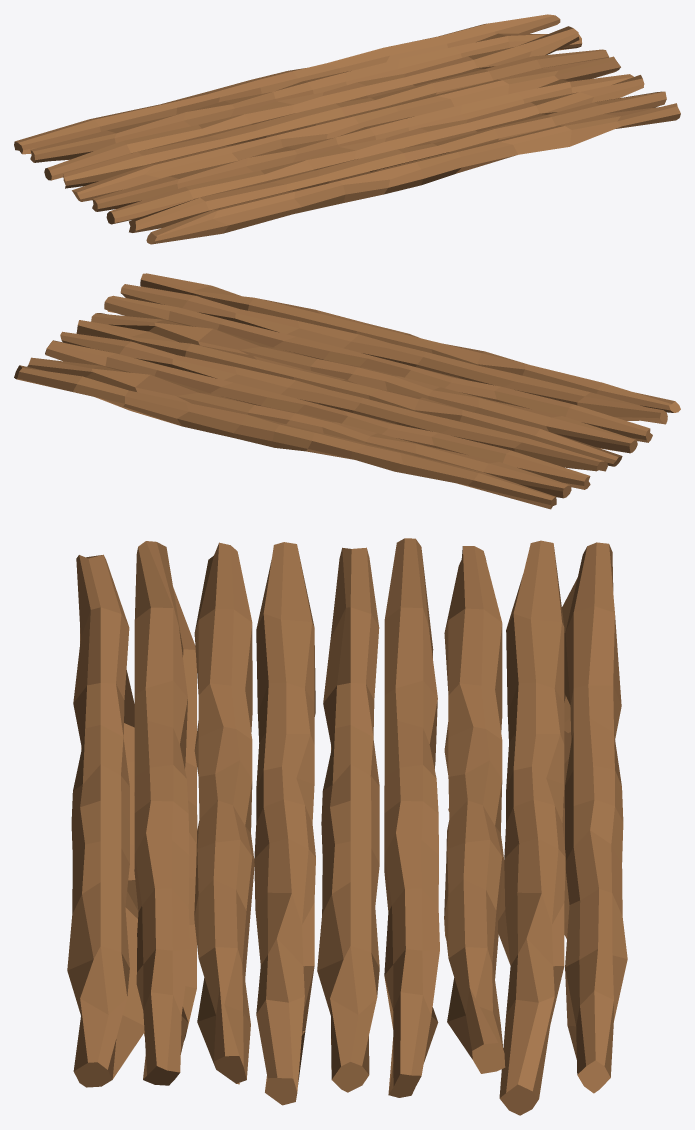
The model's file is raft.fbx.
The picture shows the model from 3 angles, top to bottom: view 1: azimuth 30°, elevation 25°; view 2: azimuth 150°, elevation 25°; view 3: azimuth 270°, elevation 25°; orthographic projection. The views are drawn at different scales.
Visible parts, largest first — view 1: Cylinder; view 2: Cylinder; view 3: Cylinder.
Boxes of the visible parts, bbox=[...] form: Cylinder: bbox=[14, 14, 680, 244]; Cylinder: bbox=[14, 273, 680, 509]; Cylinder: bbox=[67, 538, 627, 1115].
Size of the model in its own units: 2860 by 149 by 1273.
